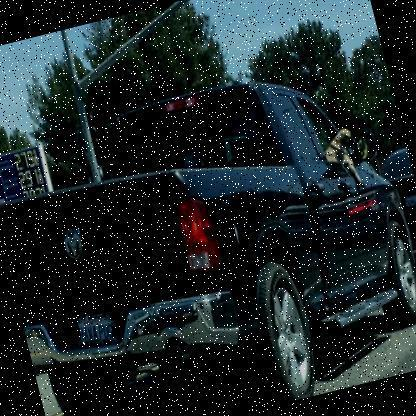License-Plate: (69, 304, 126, 359), (404, 193, 415, 215)
